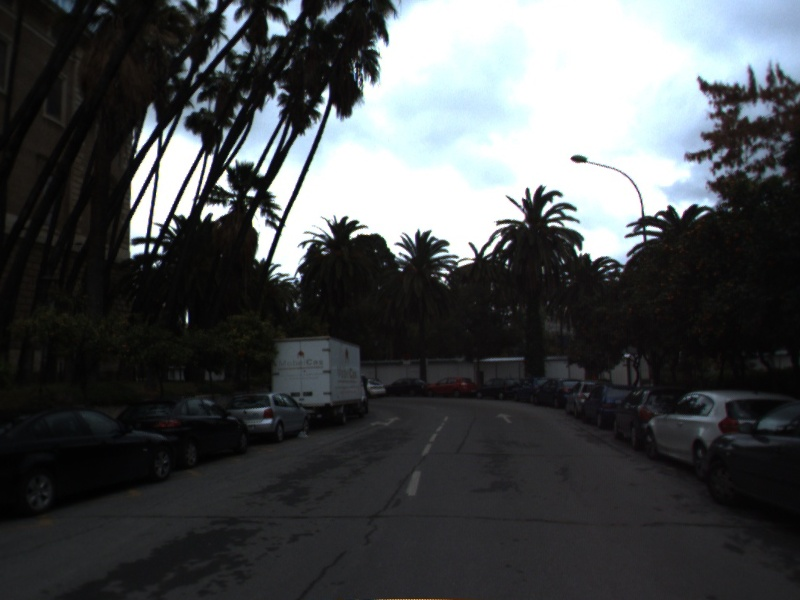STRAIGHT: (494, 411, 515, 425)
STRAIGHT_LEFT: (368, 414, 403, 428)
